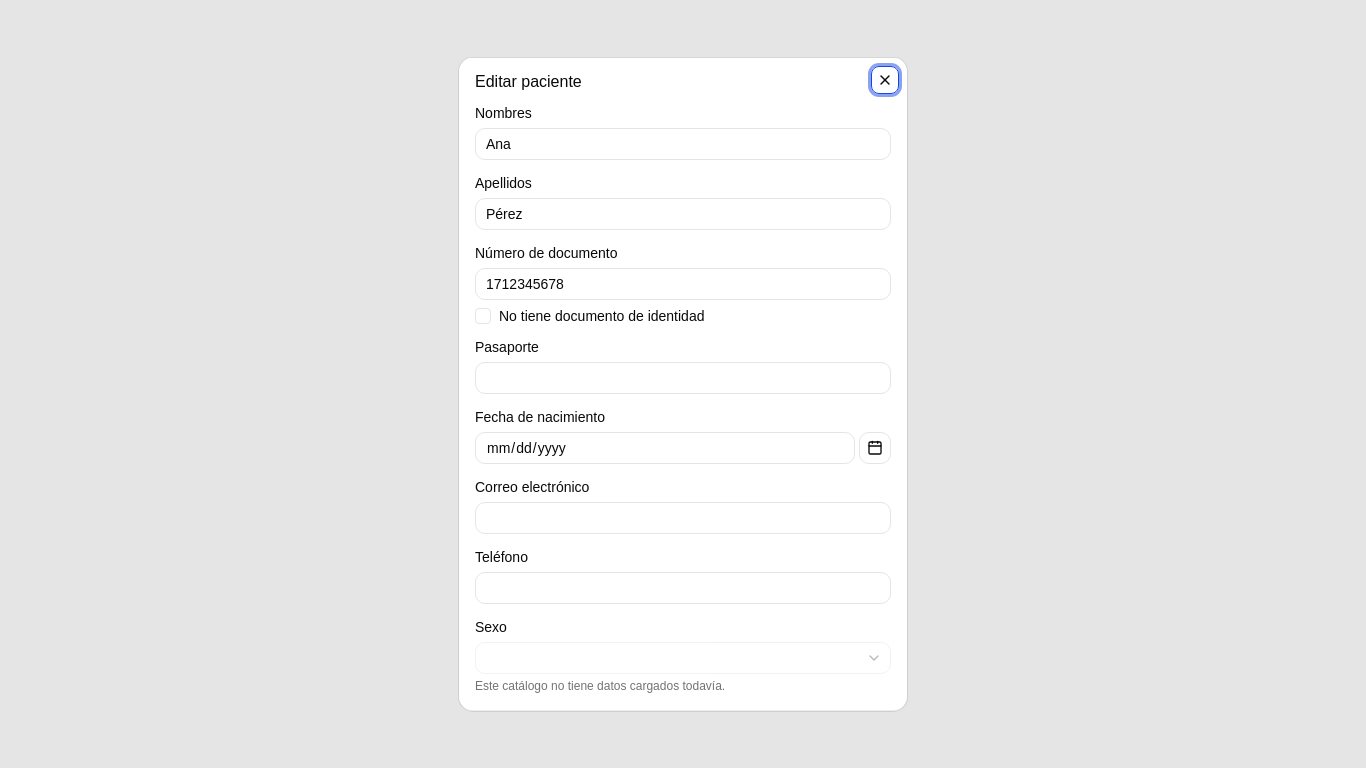
Test: PatientFormDialog — casilla «sin documento» (SPEC FE10 §3.5, §8 paso 8) › marcarla deshabilita el campo documento y lo rellena con un PROV-
Expected: the field labelled "Número de documento" is enabled, left=475, top=268, right=891, bottom=300
Expected: the field labelled "Número de documento" holds "1712345678", left=475, top=268, right=891, bottom=300
Click the checkbox named "No tiene documento de identidad" at (483, 316), box left=475, top=308, right=491, bottom=324
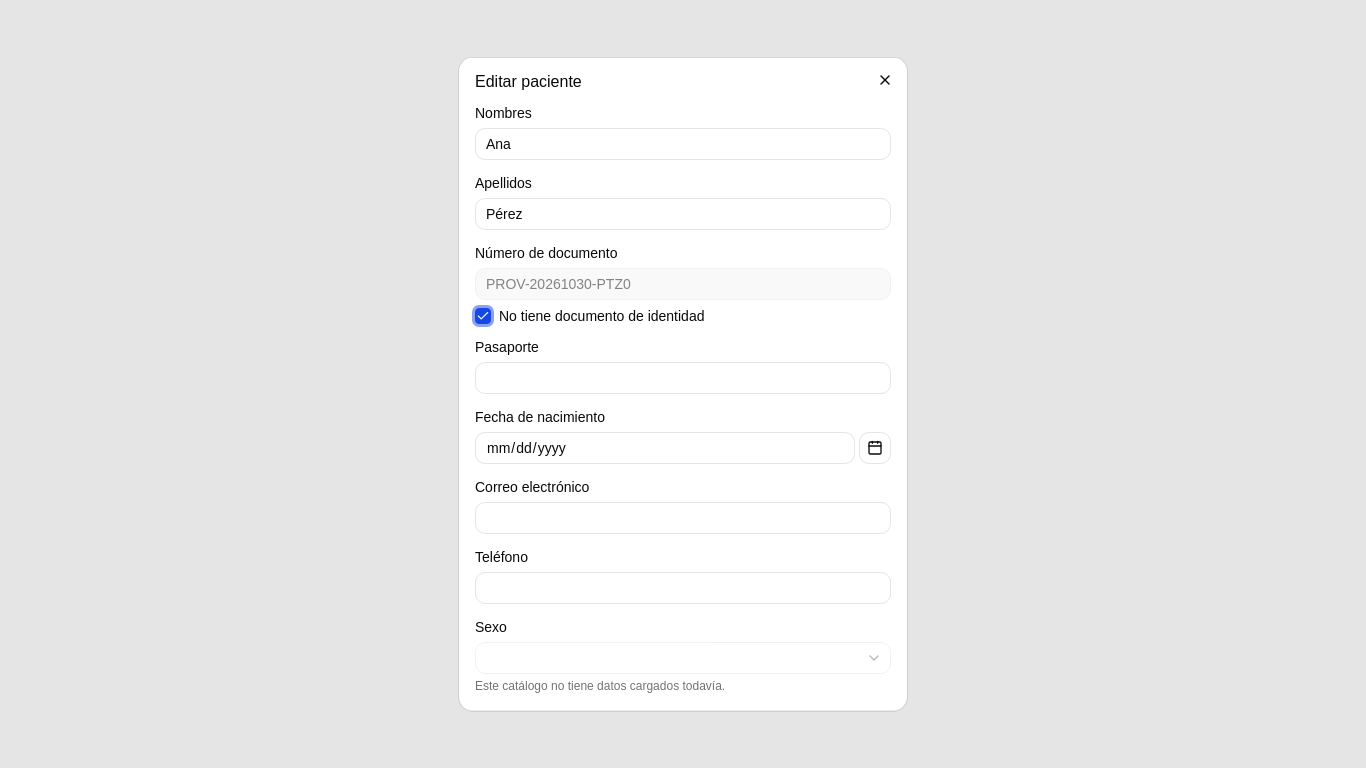
Expected: the field labelled "Número de documento" is disabled, left=475, top=268, right=891, bottom=300
